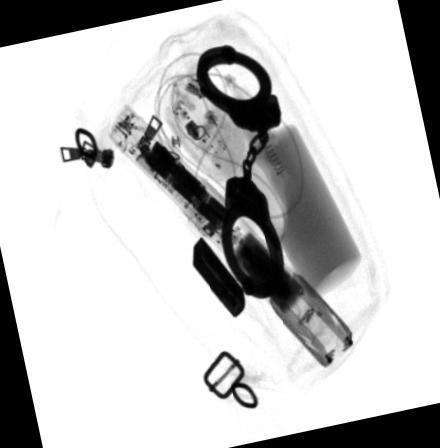Baton: (109, 102, 352, 366)
HandCuffs: (195, 42, 284, 297)
Lighter: (193, 236, 246, 316)
